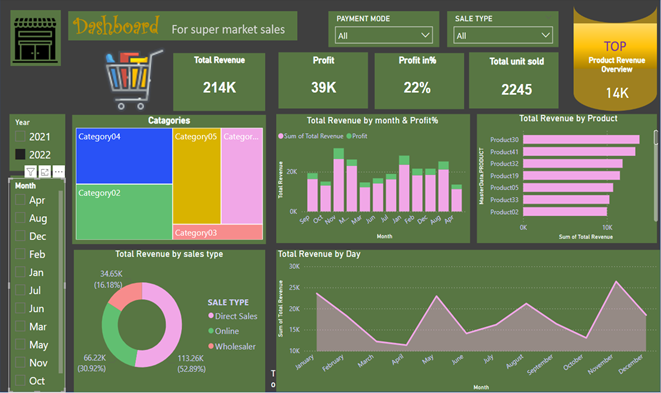

Layout of this report page (visuals, bound fields, positions):
{"tool":"powerbi","page":{"name":"Page 1","canvas":[1280,720],"ordinal":0},"visuals":[{"type":"slicer","fields":{"Values":["InputData.Year"]},"box":[17.6,212.5,115,101],"z":0},{"type":"slicer","fields":{"Values":["InputData.Month Name"]},"box":[17.6,324.9,109.8,391.6],"z":1000},{"type":"slicer","fields":{"Values":["InputData.SALE TYPE"]},"box":[869.3,22.8,212.5,60.6],"z":2000},{"type":"slicer","fields":{"Values":["InputData.PAYMENT MODE"]},"box":[640.1,22.8,209,60.6],"z":3000},{"type":"card","title":"Total Revenue","fields":{"Values":["Sum(InputData.Total Revenue)"]},"box":[338.9,101.9,175.6,106.2],"z":4000},{"type":"card","title":"Profit in%","fields":{"Values":["InputData.Profit %"]},"box":[722.6,101.9,173.9,103.6],"z":6000},{"type":"card","title":"Profit","fields":{"Values":["InputData.Profit"]},"box":[541.8,101.9,172.1,103.6],"z":7000},{"type":"columnChart","title":"Total Revenue by month & Profit%","fields":{"Category":["InputData.Month Name"],"Y":["Sum(InputData.Total Revenue)","InputData.Profit"]},"box":[533.9,212.5,376.7,232.7],"z":8000},{"type":"clusteredBarChart","title":"Total Revenue by Product","fields":{"Y":["Sum(InputData.Total Revenue)"],"Category":["InputData.MasterData.PRODUCT"]},"box":[922.8,208.1,357.4,237.1],"z":9000},{"type":"areaChart","title":" Total Revenue by Day","fields":{"Y":["Sum(InputData.Total Revenue)"],"Category":["InputData.Day"]},"box":[533.9,455.7,746.3,264.3],"z":10000},{"type":"pieChart","title":"Top 10 quantites sold by Product","fields":{"Category":["InputData.MasterData.PRODUCT"],"Y":["Sum(InputData.QUANTITY)"]},"box":[143.1,212.5,371.4,232.7],"z":11000},{"type":"donutChart","title":"Total Revenue by sales type","fields":{"Category":["InputData.SALE TYPE"],"Y":["Sum(InputData.Total Revenue)"]},"box":[143.1,455.7,371.4,260.8],"z":12000},{"type":"card","title":"Product Revenue Overview","fields":{"Values":["Sum(InputData.Total Revenue)"]},"box":[1132.7,104.5,125.6,101],"z":13000},{"type":"card","title":"Total unit sold","fields":{"Values":["Sum(InputData.QUANTITY)"]},"box":[916.7,104.5,171.2,103.6],"z":13001}]}

Visuals, with their boxes in screenshot pixels (x1, y1, x2, y2):
slicer - InputData.Year: (left=1, top=121, right=61, bottom=174)
slicer - InputData.Month Name: (left=1, top=180, right=59, bottom=387)
slicer - InputData.SALE TYPE: (left=450, top=21, right=563, bottom=53)
slicer - InputData.PAYMENT MODE: (left=329, top=21, right=440, bottom=53)
"Total Revenue" card: (left=170, top=62, right=263, bottom=118)
"Profit in%" card: (left=373, top=62, right=465, bottom=117)
"Profit" card: (left=277, top=62, right=368, bottom=117)
"Total Revenue by month & Profit%" columnChart: (left=273, top=121, right=472, bottom=244)
"Total Revenue by Product" clusteredBarChart: (left=479, top=118, right=660, bottom=244)
" Total Revenue by Day" areaChart: (left=273, top=249, right=660, bottom=389)
"Top 10 quantites sold by Product" pieChart: (left=67, top=121, right=263, bottom=244)
"Total Revenue by sales type" donutChart: (left=67, top=249, right=263, bottom=387)
"Product Revenue Overview" card: (left=589, top=64, right=656, bottom=117)
"Total unit sold" card: (left=475, top=64, right=566, bottom=118)
